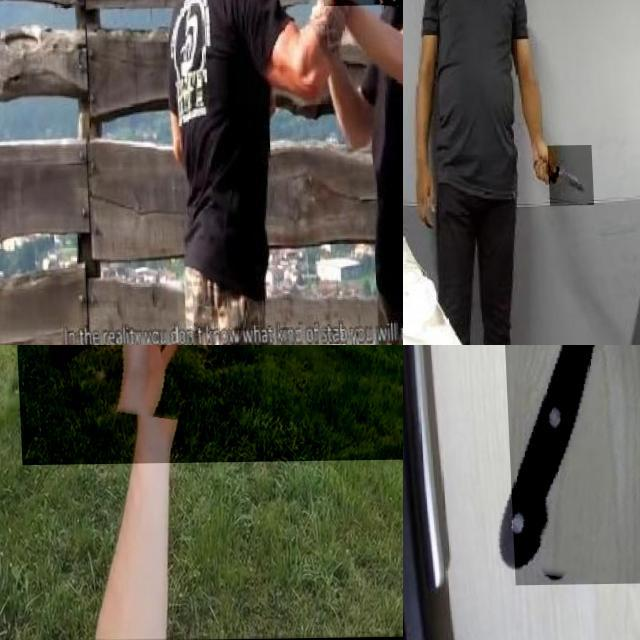-: (491, 345, 640, 618), (318, 0, 403, 54), (544, 146, 590, 207)
gun-knife-thesis - v11 Yolov5 augmented: (7, 345, 403, 503)
